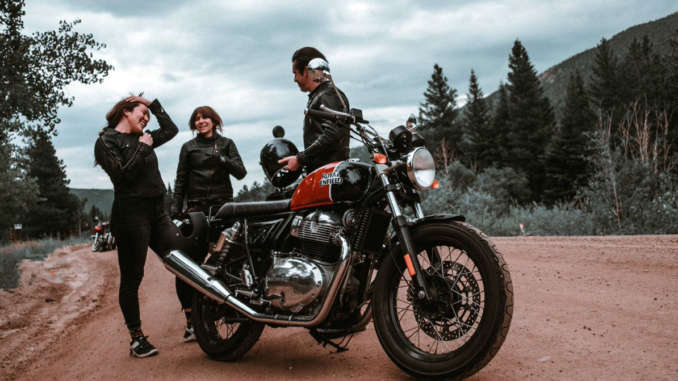bike: (184, 129, 523, 373)
